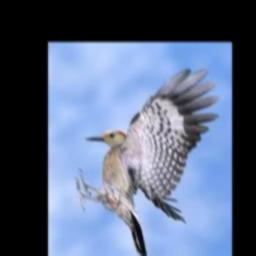Woodpecker: (74, 69, 219, 256)
